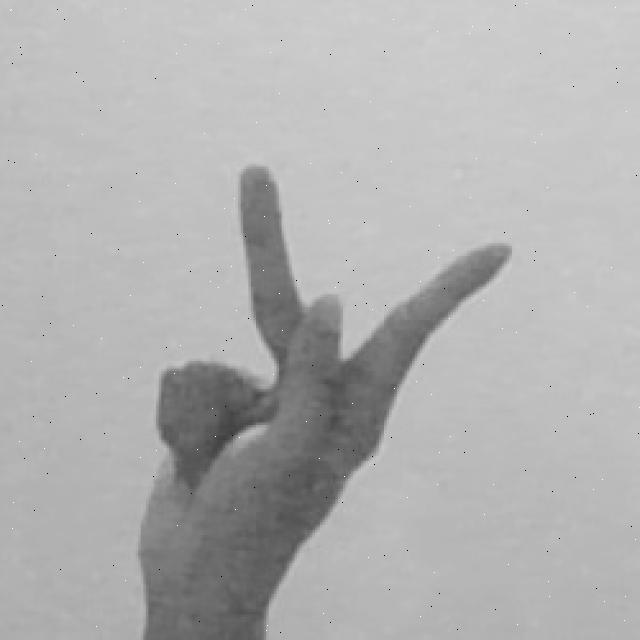K: (132, 158, 516, 636)
